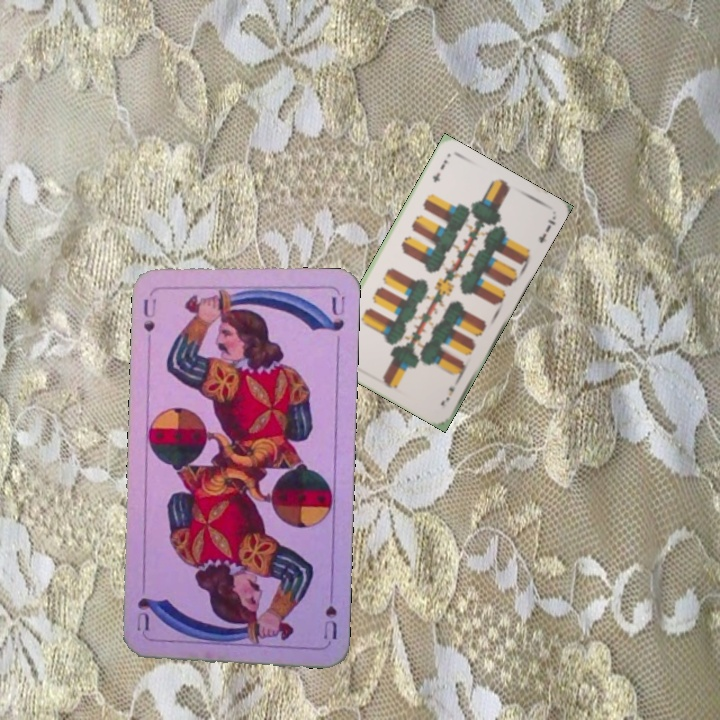E7: (437, 374, 462, 408), (428, 155, 450, 185)
SU: (319, 583, 340, 642), (139, 295, 159, 335)
